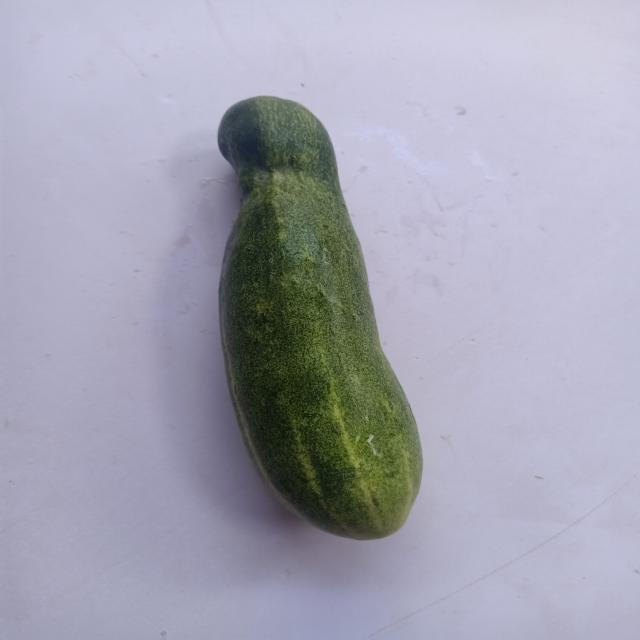Cucumber: (174, 73, 457, 582)
